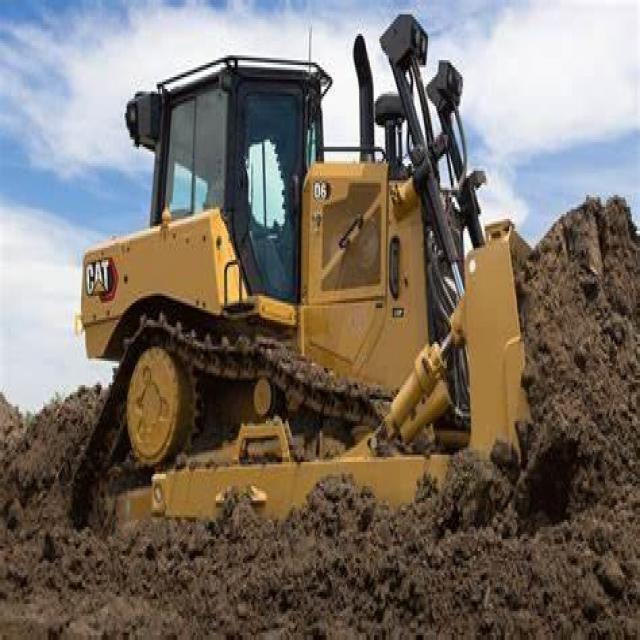Bulldozer: (80, 26, 571, 568)
